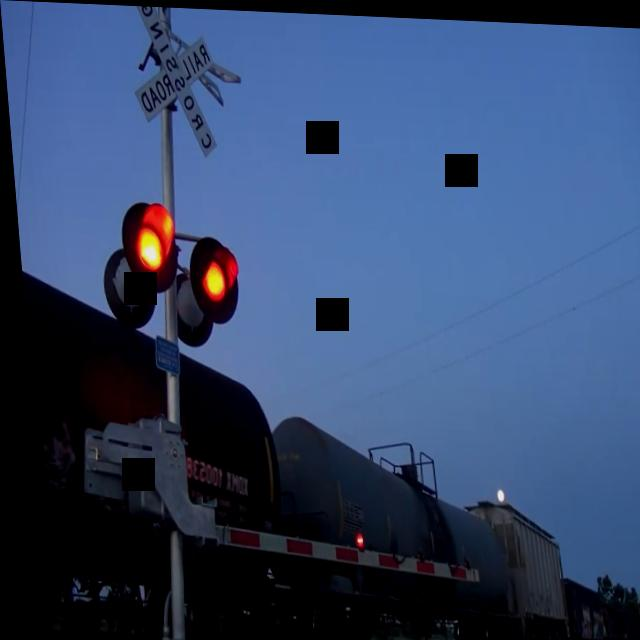hopper: (466, 483, 567, 640)
tank: (16, 238, 294, 640), (255, 393, 517, 640)
